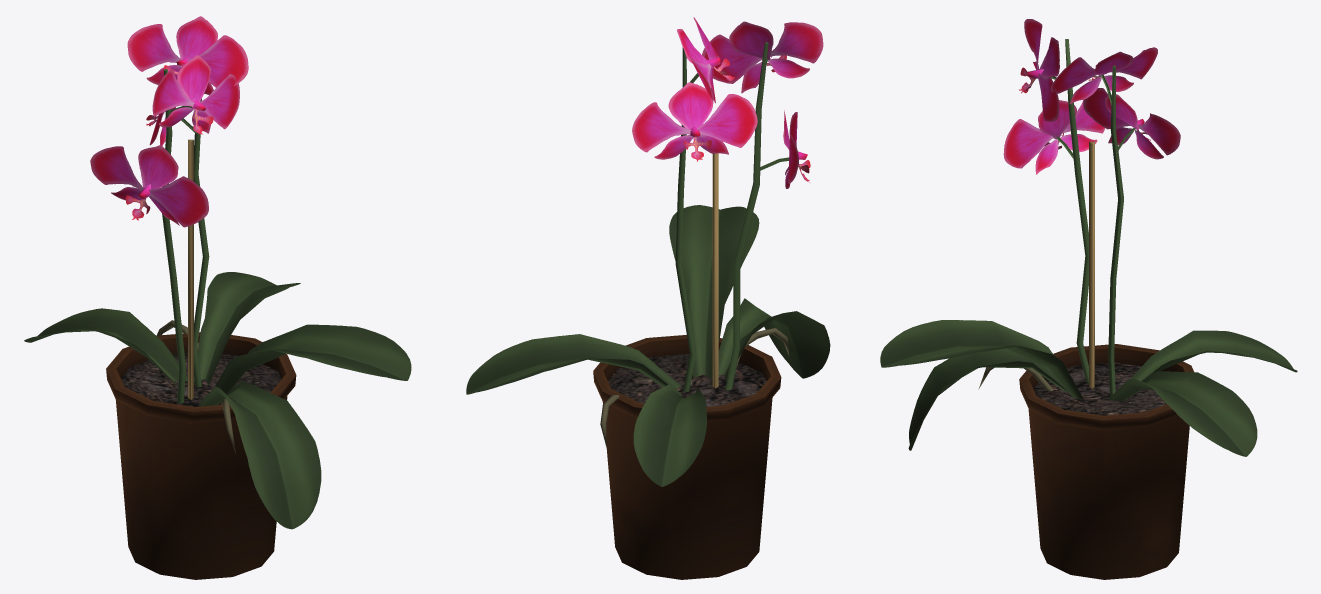
File: Orchid_Pink_01.dae
3 renders of one model, left to right at view 1: azimuth 30°, elevation 25°; view 2: azimuth 150°, elevation 25°; view 3: azimuth 270°, elevation 25°, orthographic. The views are drawn at different scales.
Visible parts, largest first — view 1: polySurface1877; view 2: polySurface1877; view 3: polySurface1877.
Part boxes in pixels (x1,y1,x2,y2): polySurface1877: [24, 16, 411, 579]; polySurface1877: [466, 17, 830, 579]; polySurface1877: [880, 19, 1297, 579].
Bounding box in the file's own units: 0.8684 × 1.56 × 1.24.
1 material, 1 textured.
